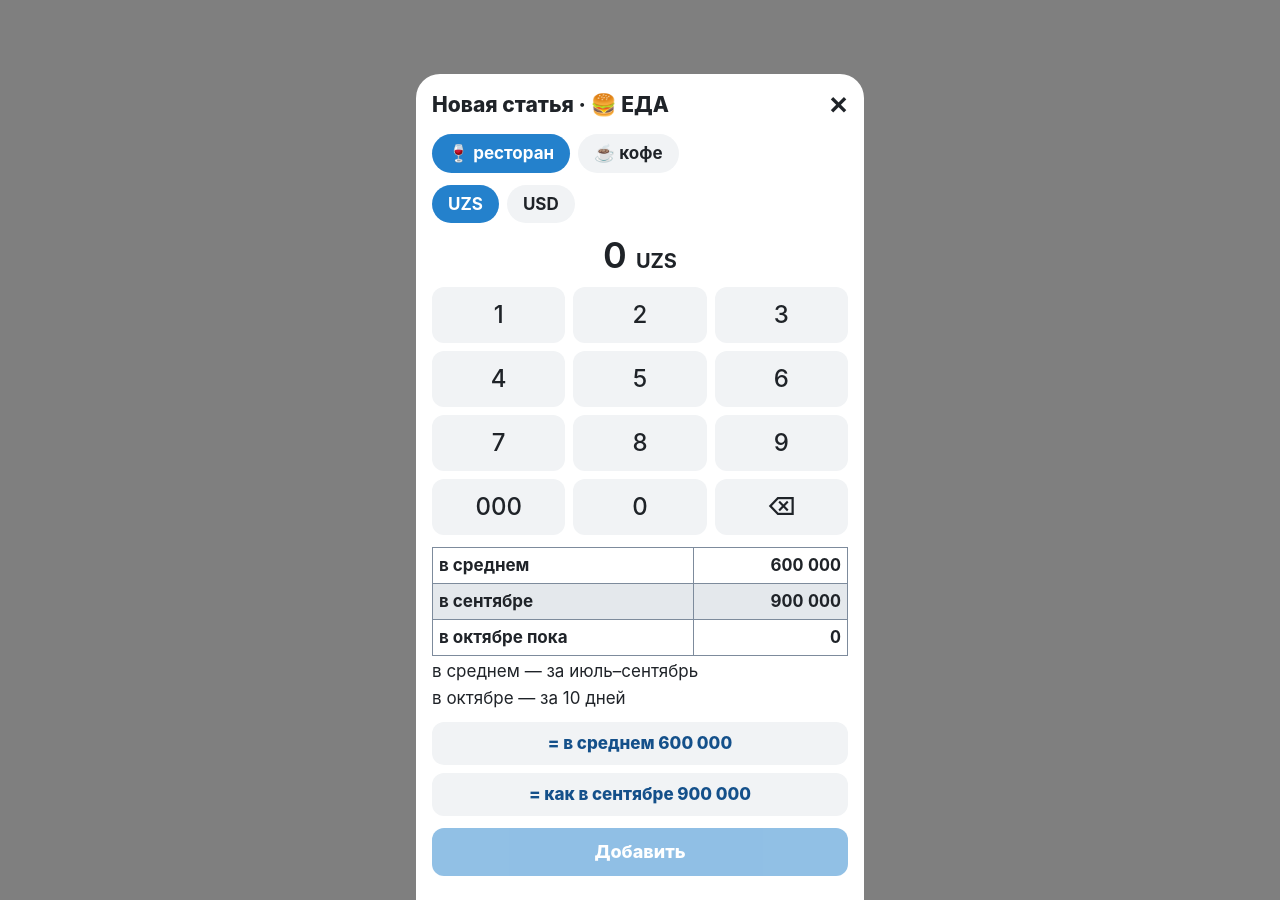
Test: AddArticleSheet › picks a subcategory and a currency and fills the sum from the hints
This screenshot has width=1280, height=900.
Click the button "= как в сентябре 900 000". click: point(640, 795)
box: 432,773 -> 848,816
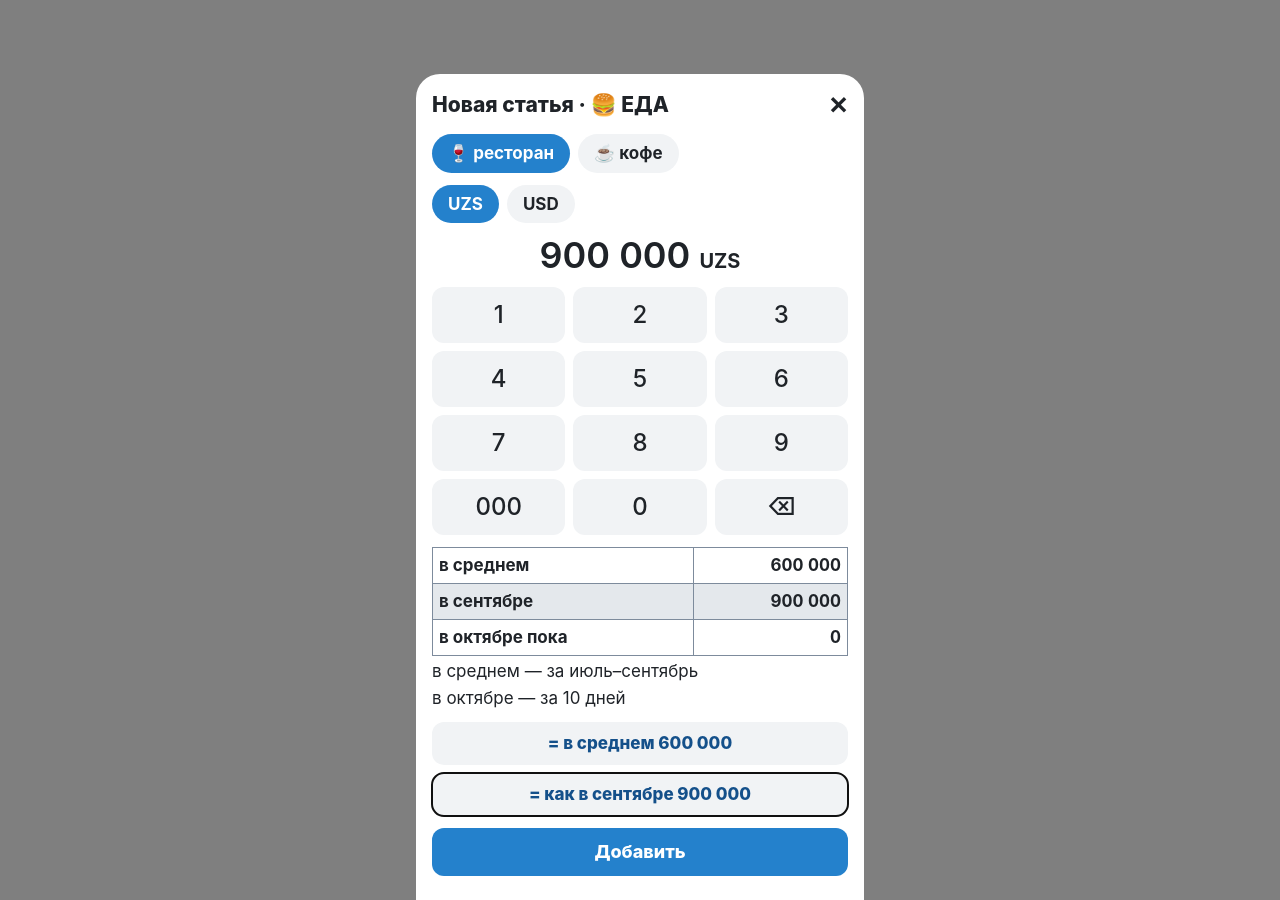
Click the button "Добавить". click: point(640, 852)
box: 432,828 -> 848,876
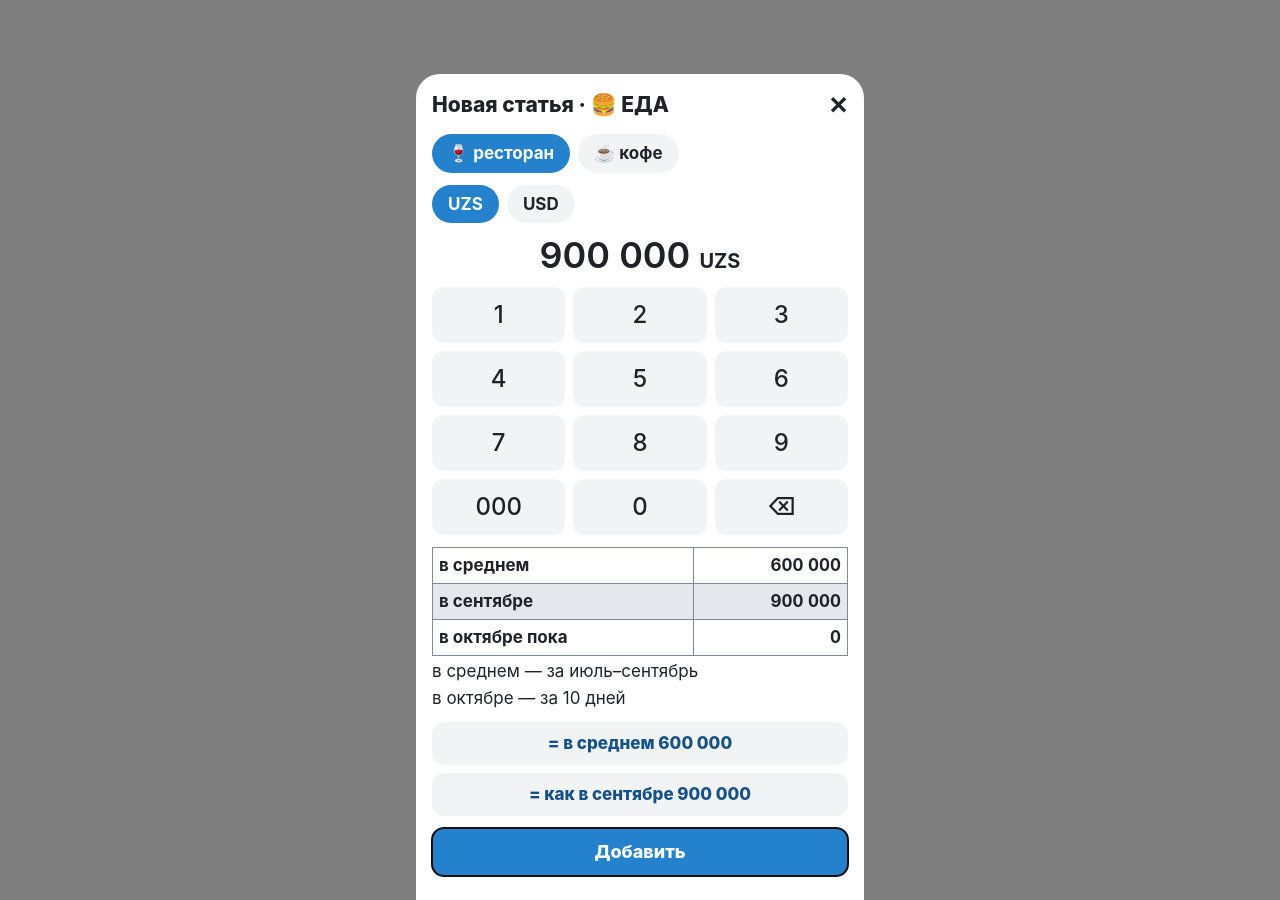
Click the radio button labelled "☕ кофе". click: point(628, 153)
box: 578,134 -> 679,172
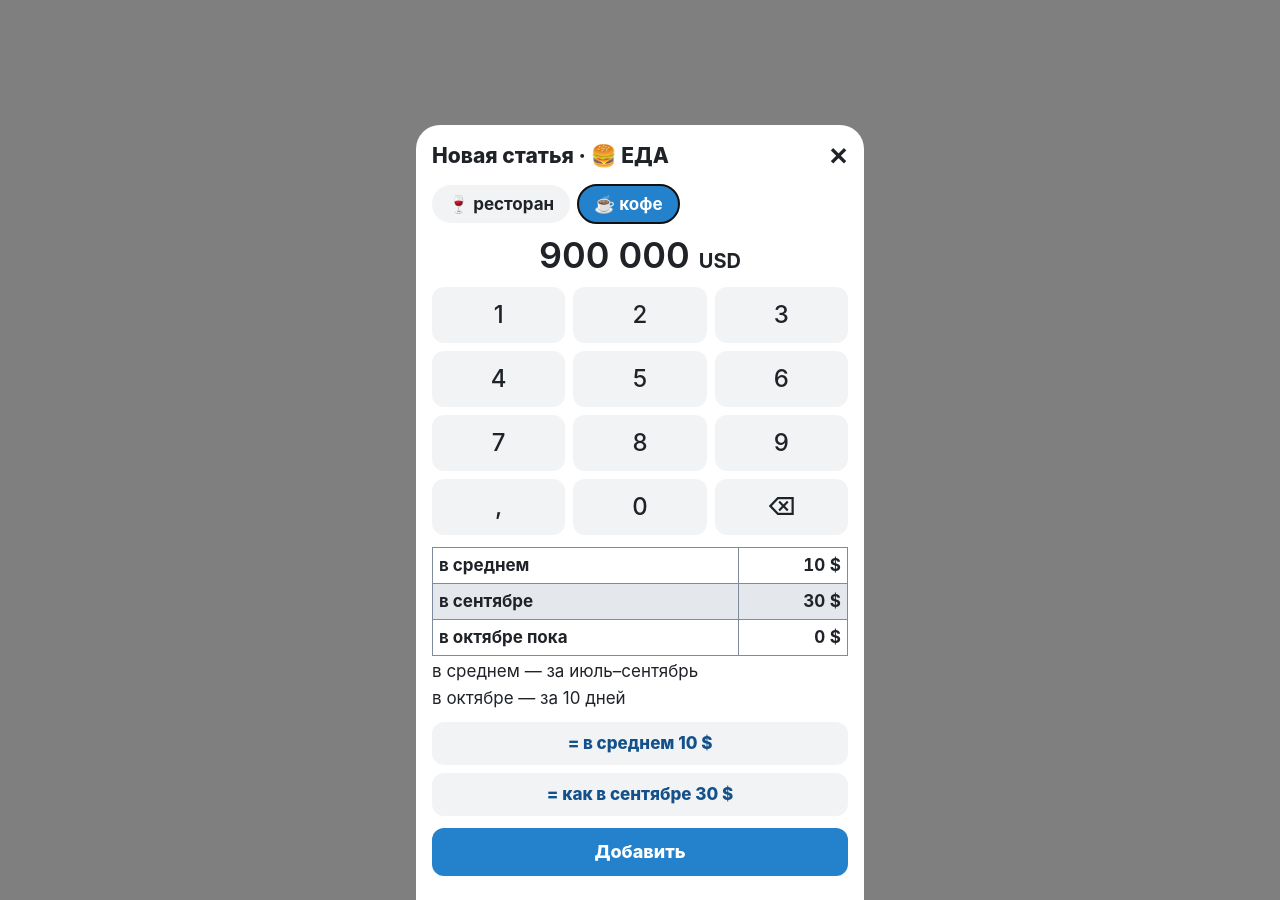
Check: the element "Валюта" is gone
Check: the element named "Сумма" shows "USD", box 699,249 -> 741,273
